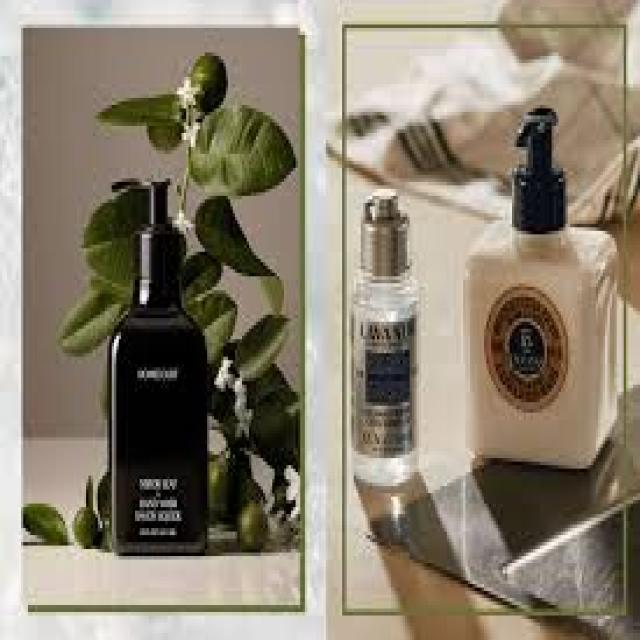liquid soap: (458, 100, 626, 480), (110, 180, 221, 564), (348, 178, 422, 494)
